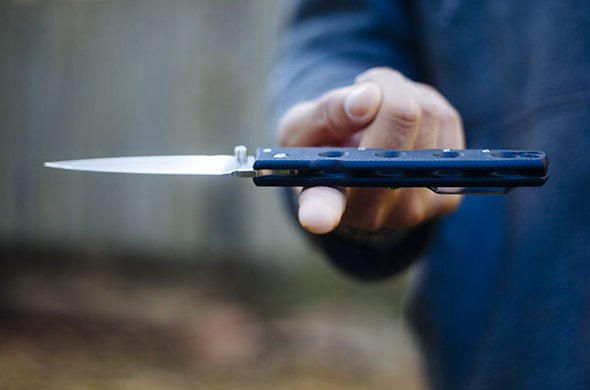knife: (36, 62, 386, 240)
